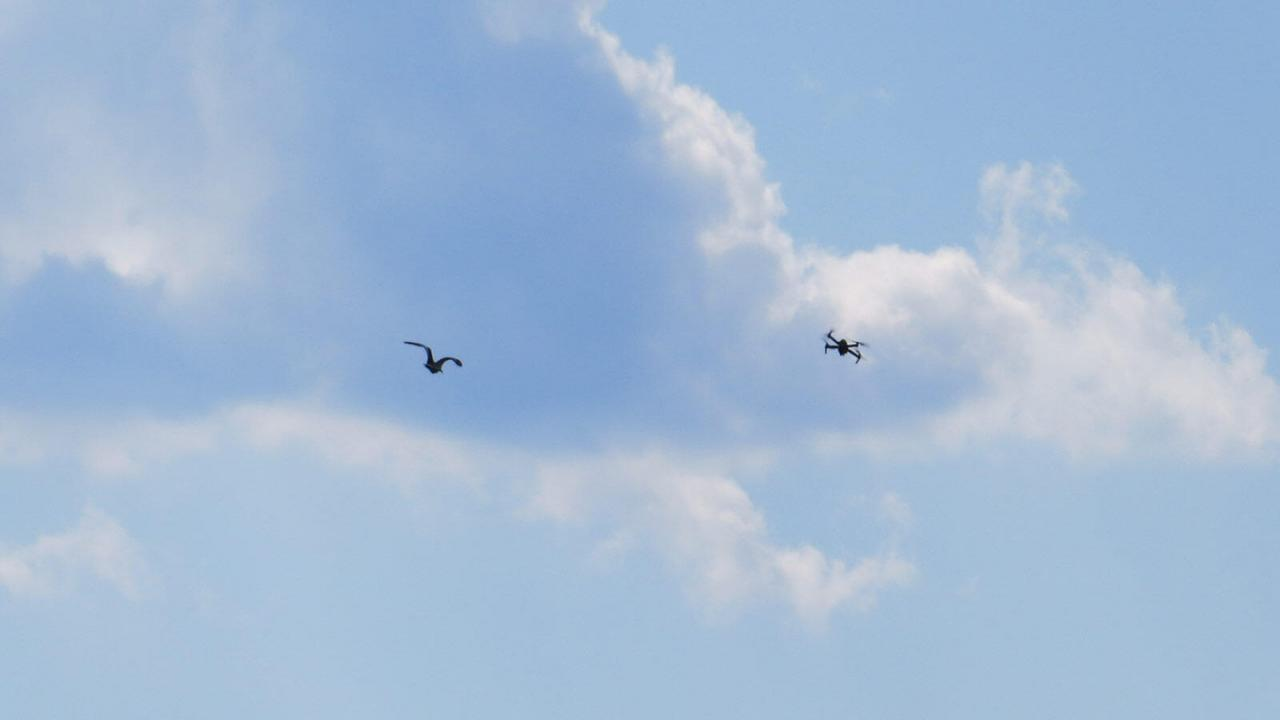Bird: (394, 326, 476, 397)
Drone: (810, 313, 877, 376)
